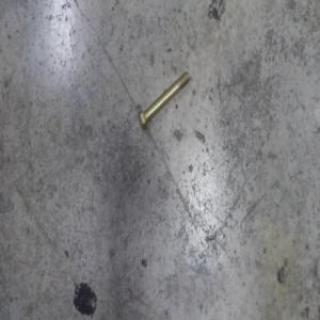Bolttrack_idkeyframe: (137, 70, 190, 130)
